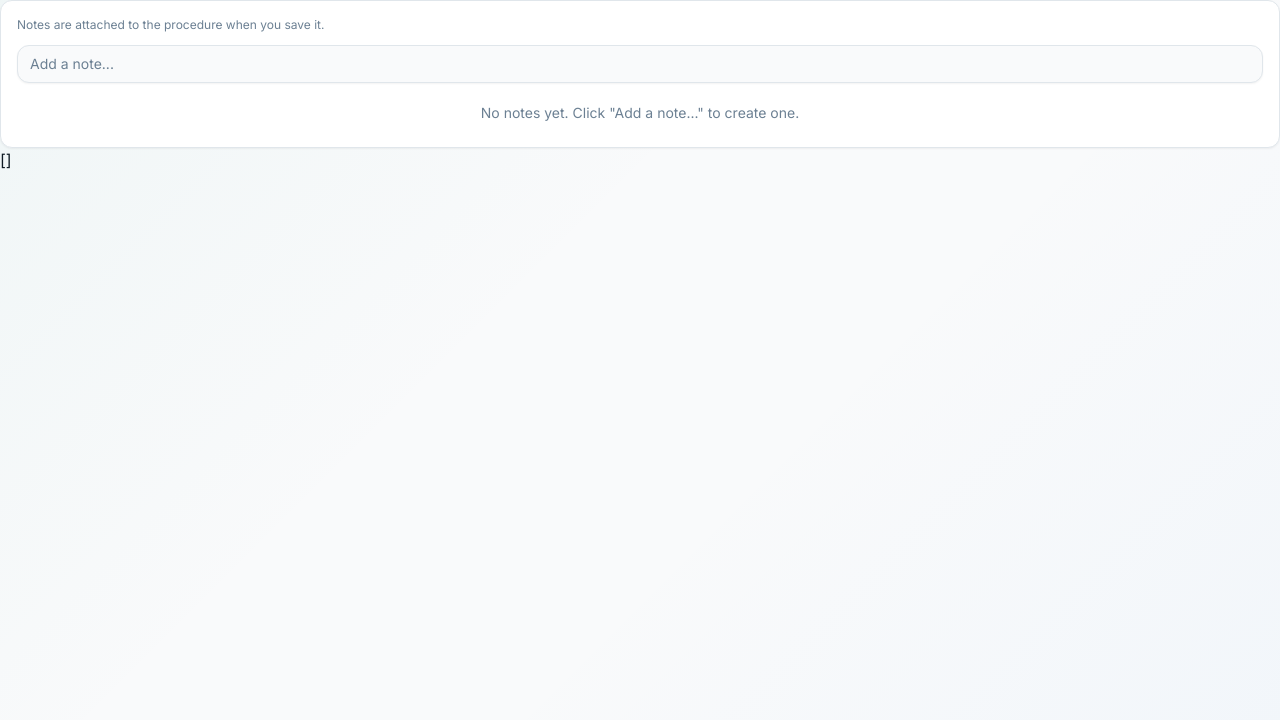
Test case: StickyNotes - draft mode › edits a note in place and drops it when emptied
The image size is (1280, 720).
Later steps or results of the test are not shown.
Click the button "Add a note...".
click(72, 64)  # box [17,45,1263,83]
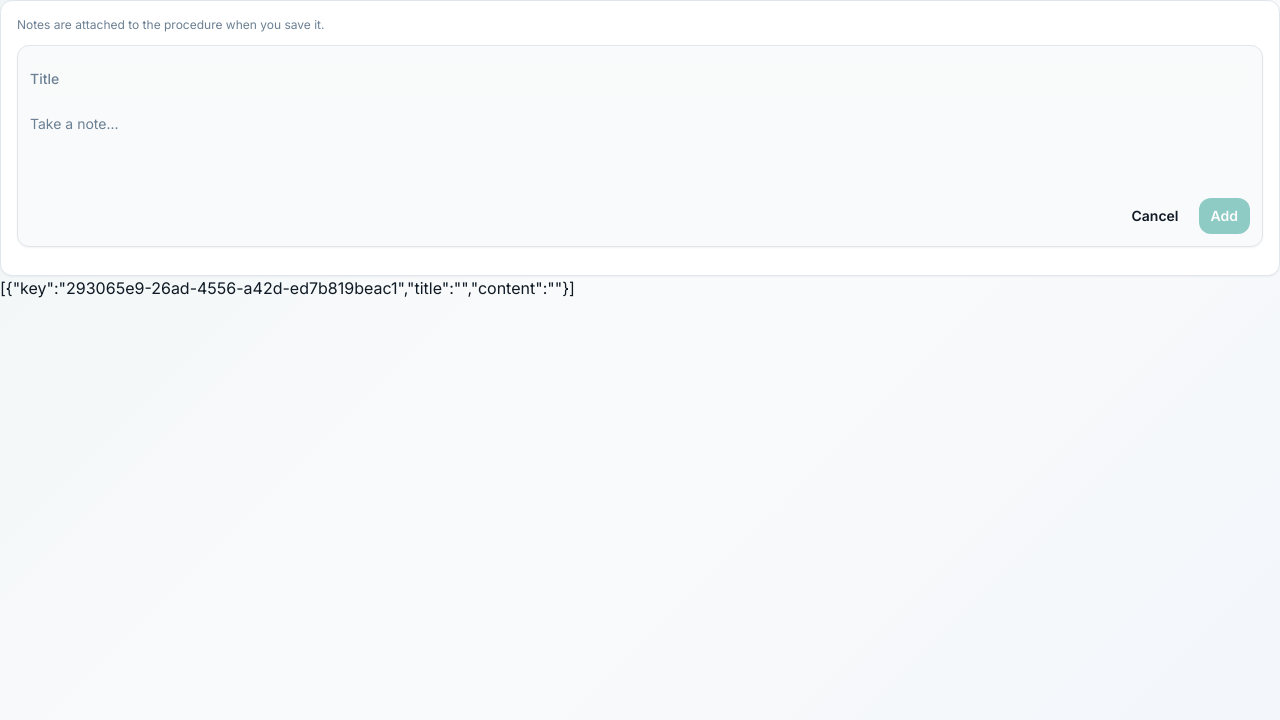
Type "Draft text" into the text box with placeholder "Take a note...".
click(640, 146); type("Draft text")  # box [30,106,1250,186]
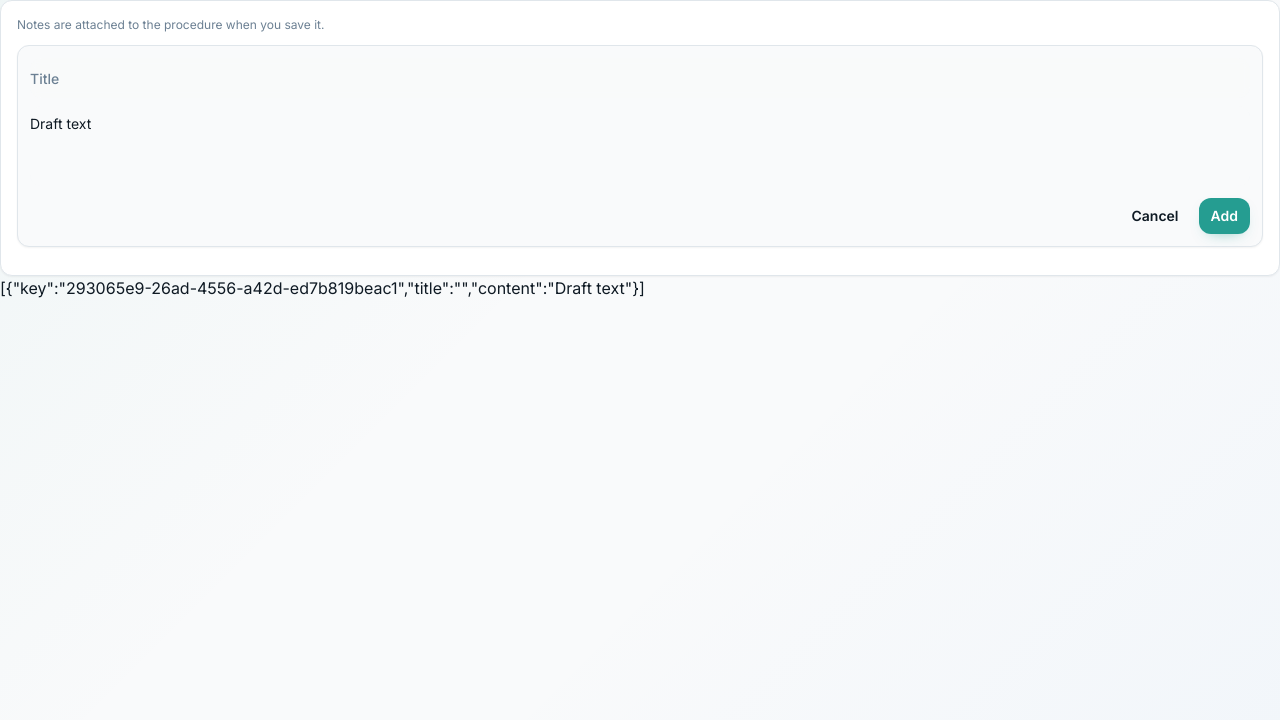
Click the button "Add".
click(1224, 216)  # box [1198,198,1250,234]
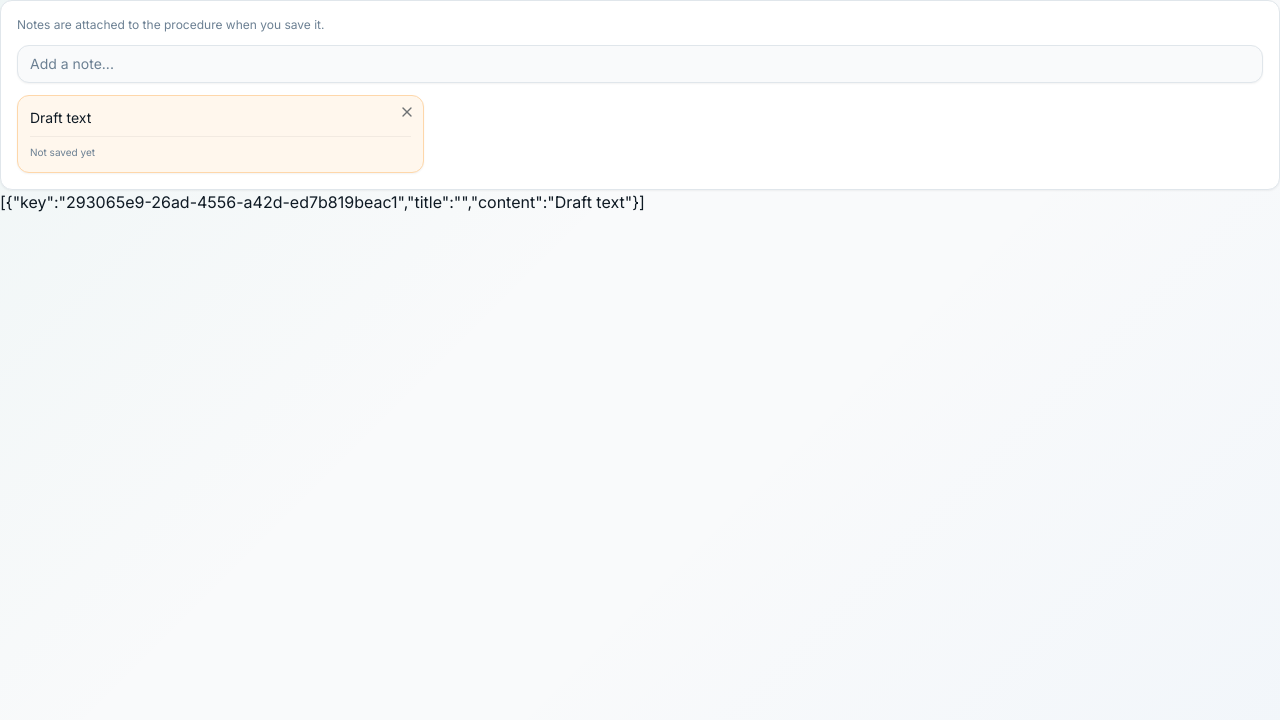
Click the text "Draft text".
click(61, 118)  # box [30,109,91,126]
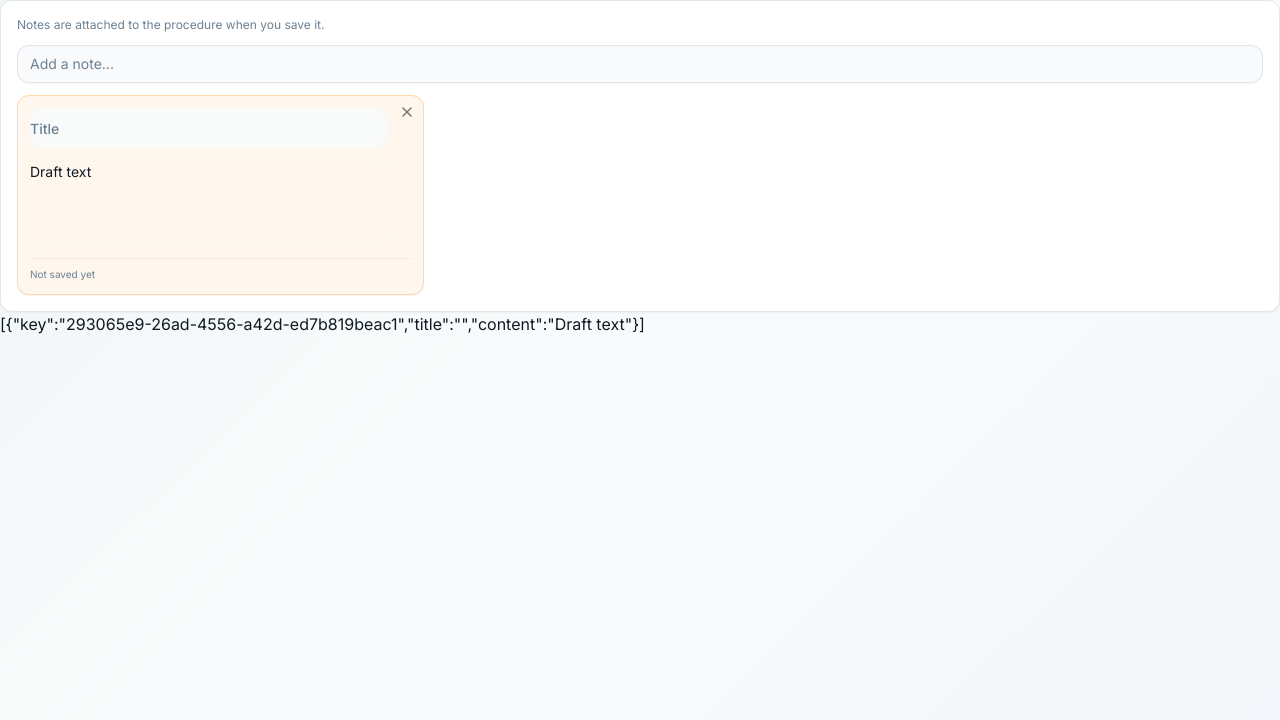
Replace the text in the text box with placeholder "Take a note..." with "Corrected text" at (209, 202), box [30,154,387,250]
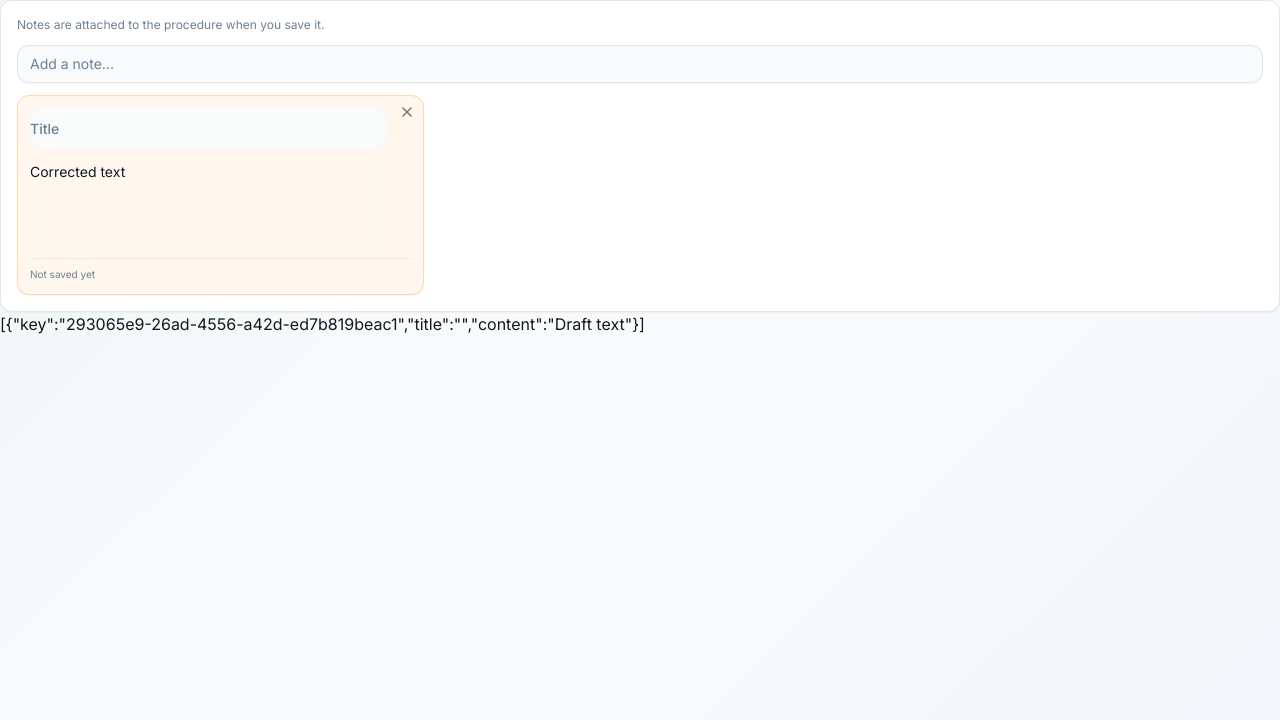
Leave the element with placeholder "Take a note...", box [30,108,411,250]
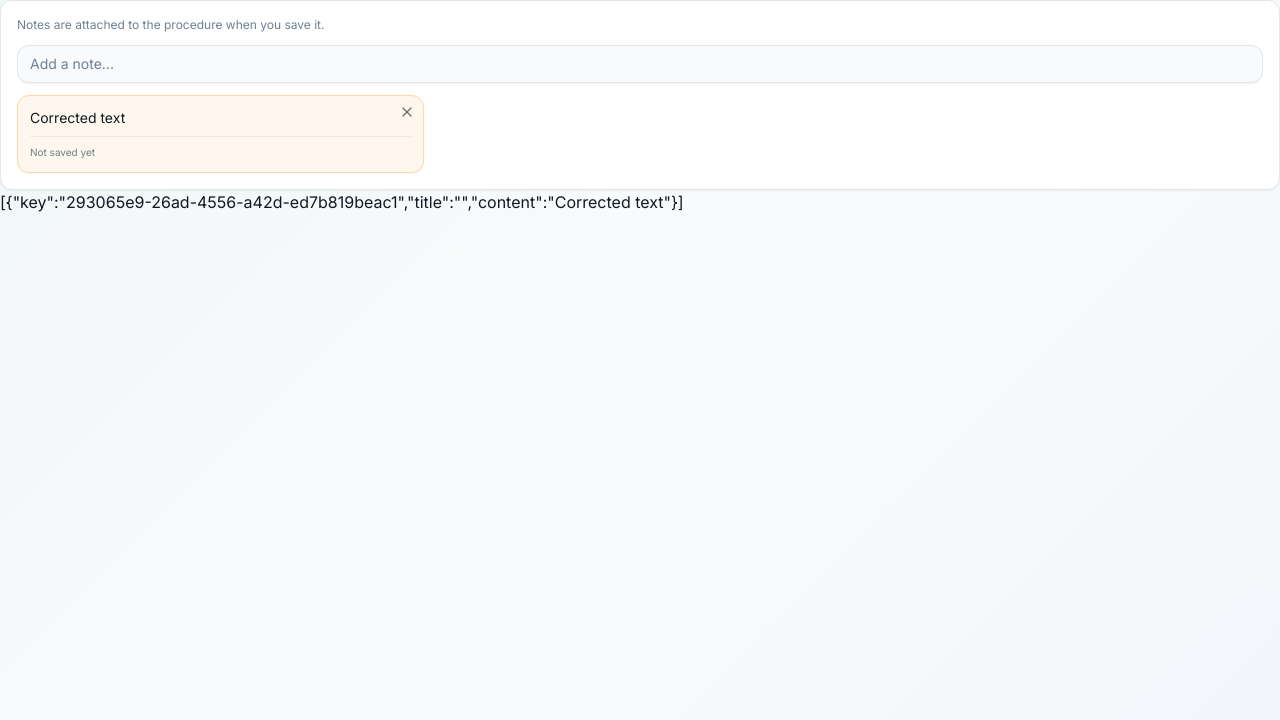
Result: the text "Corrected text" is shown at [30,109,125,126]
